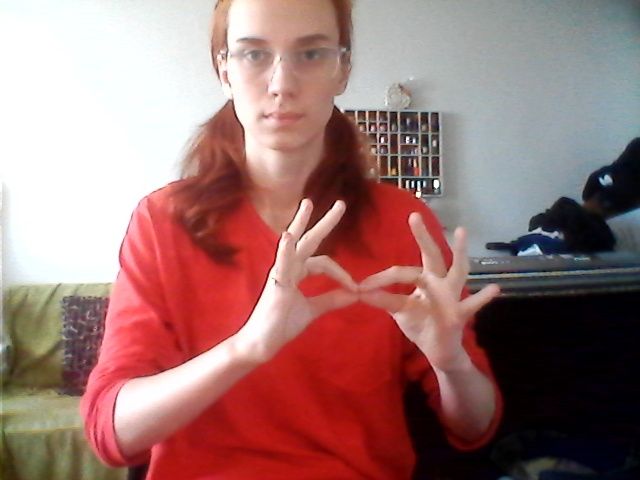b: (247, 192, 505, 367)
